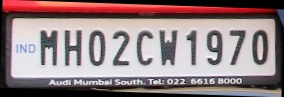character: (64, 29, 83, 67), (158, 28, 177, 66), (111, 29, 130, 66), (88, 29, 106, 67), (40, 29, 58, 66), (135, 29, 153, 65), (228, 29, 246, 65), (205, 29, 222, 65), (251, 29, 268, 65), (186, 28, 198, 66)
